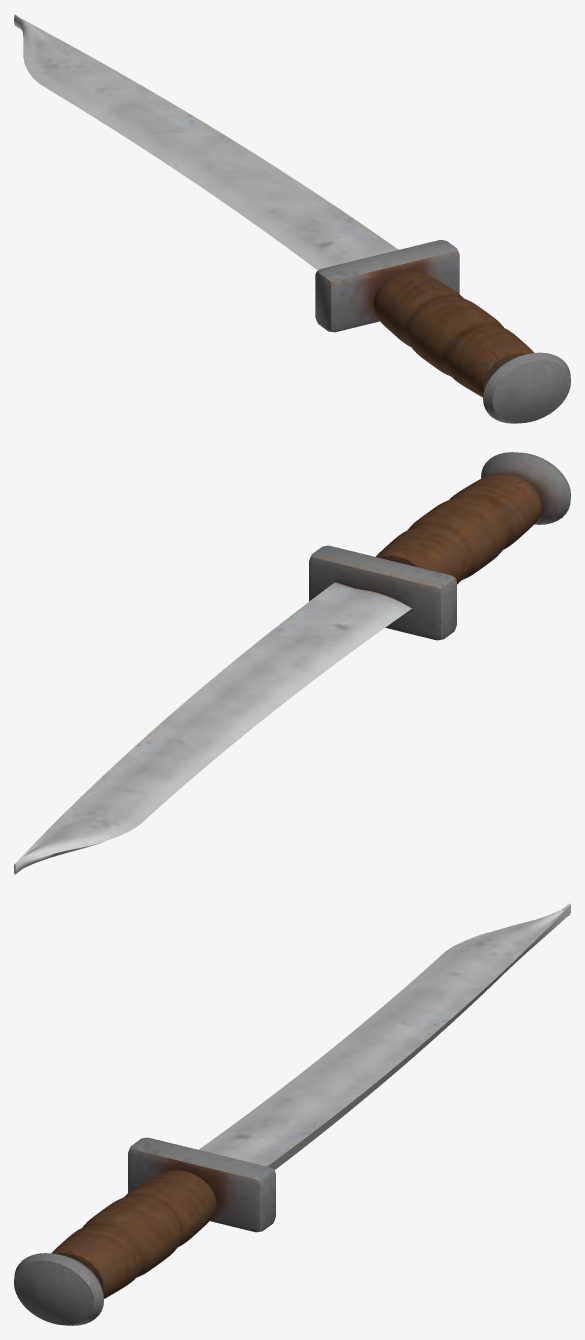
Rendered from sica.glb.
3 views of the same model, one above another, from view 1: azimuth 30°, elevation 25°; view 2: azimuth 150°, elevation 25°; view 3: azimuth 330°, elevation 25° (orthographic). The views are drawn at different scales.
Visible parts, largest first — view 1: sica; view 2: sica; view 3: sica.
Boxes of the visible parts, x1,y1,x2,y2 form: sica: [14, 14, 570, 423]; sica: [14, 452, 570, 874]; sica: [14, 903, 570, 1325].
Size of the model in its own units: 0.0598 by 0.0292 by 0.4019.
1 material, 1 textured.
